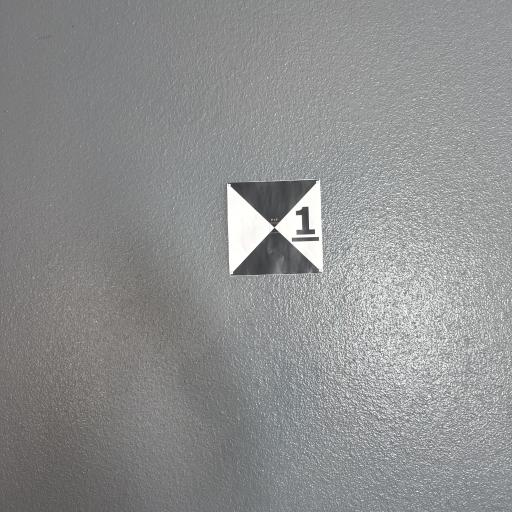target1: (228, 180, 323, 275)
